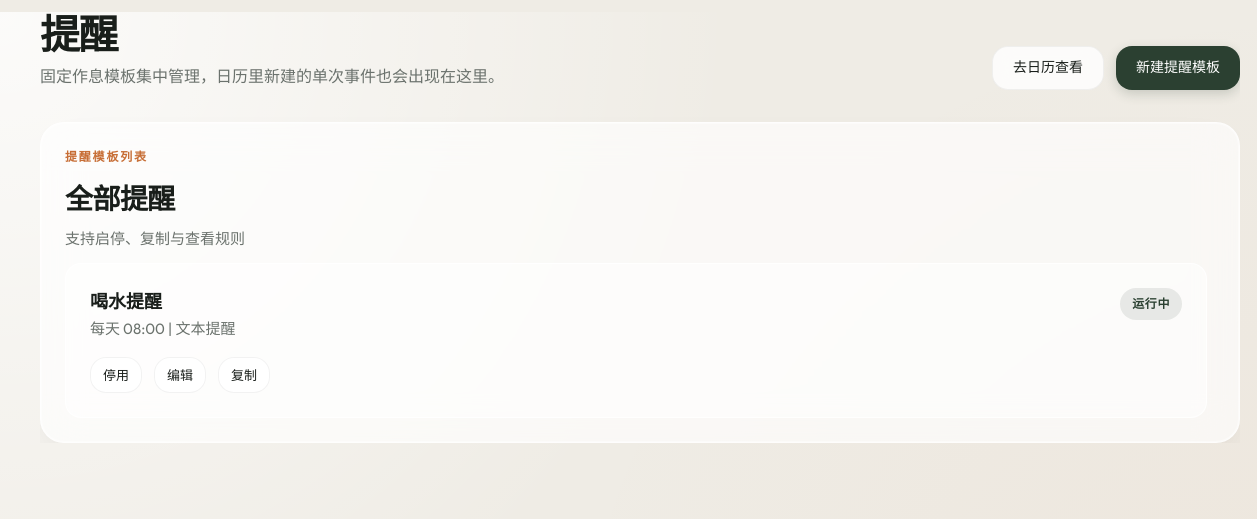
Test: RemindersPage › shows visible error when duplication fails with error object
This screenshot has width=1257, height=519.
Click the button with aria-label "复制 喝水提醒". click: [244, 375]
box: [218,357,270,393]
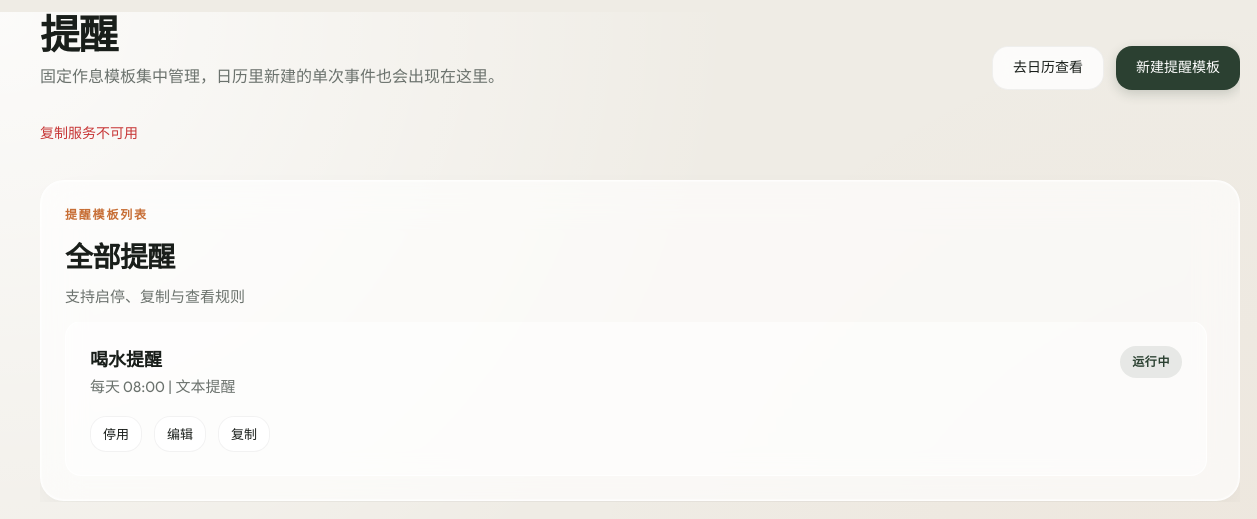
Expected: the text "复制服务不可用" is shown, [40,124,138,142]
